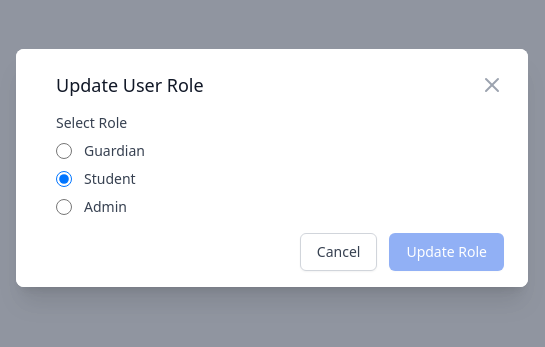
Test: UserRoleDialog › handles errors during update
The width and height of the screenshot is (545, 347).
Step 1. Click the radio button labelled "Admin" → {"x": 64, "y": 207}, box [56, 199, 72, 215]
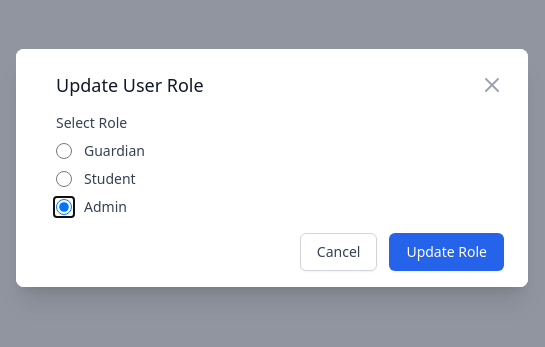
Check: the button "Update Role" is enabled
# Click the submit button
Step 2. Click the button "Update Role" → {"x": 447, "y": 252}, box [389, 233, 504, 271]
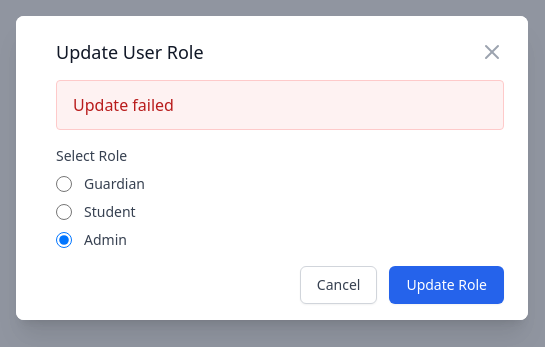
Check: the text "Update failed" is shown, box [56, 80, 504, 130]
